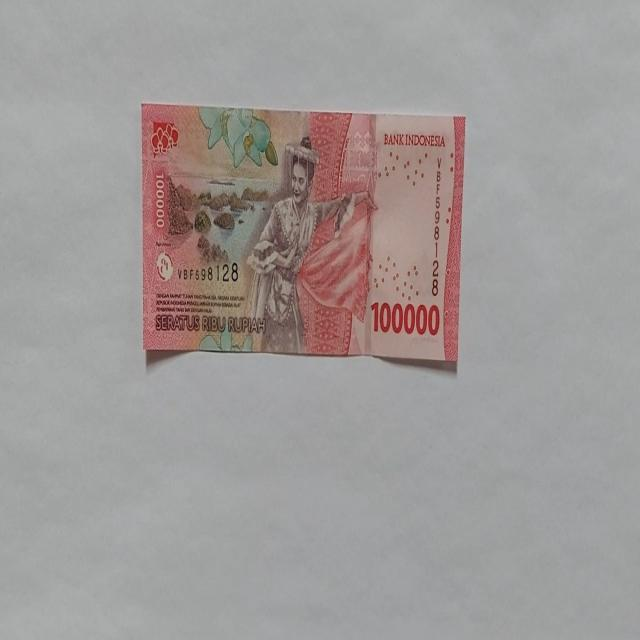seratus ribu rupiah: (141, 104, 466, 369), (244, 135, 358, 355)
